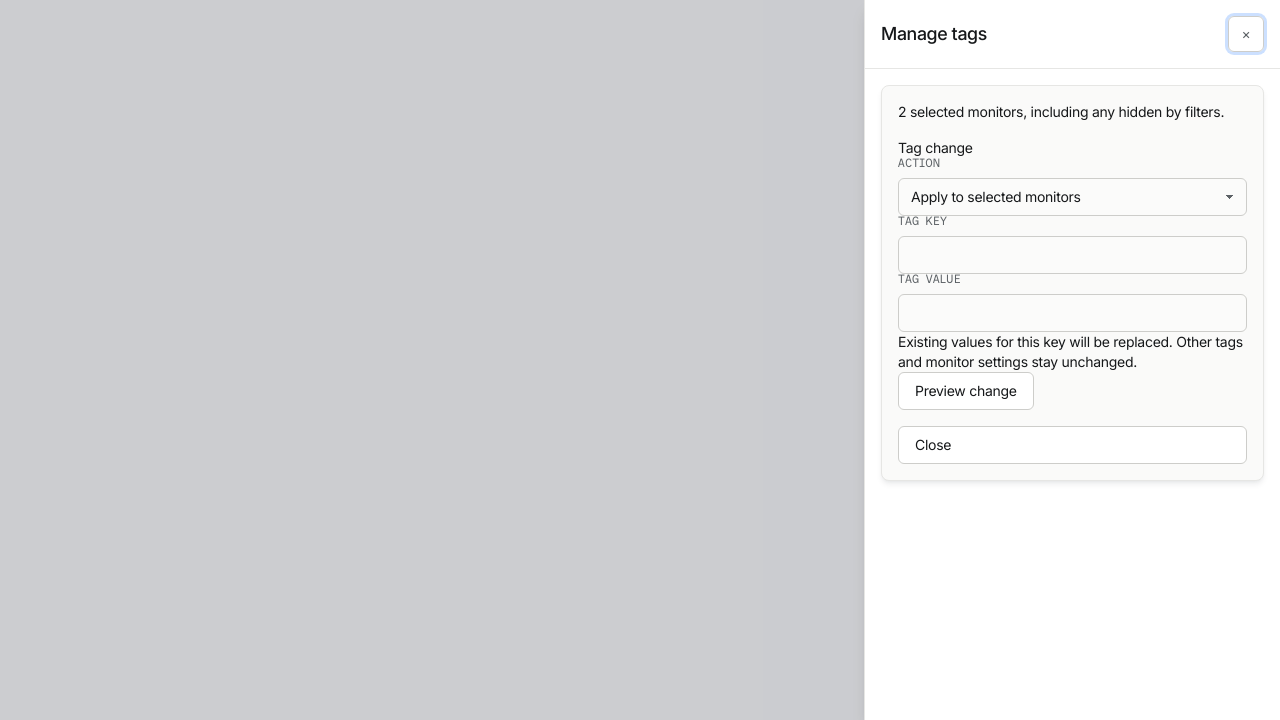
Test: invalidates a completed preview when value changes
Type "env" into the field labelled "Tag key".
click(1072, 255); type("env")  # box [898,236,1247,274]
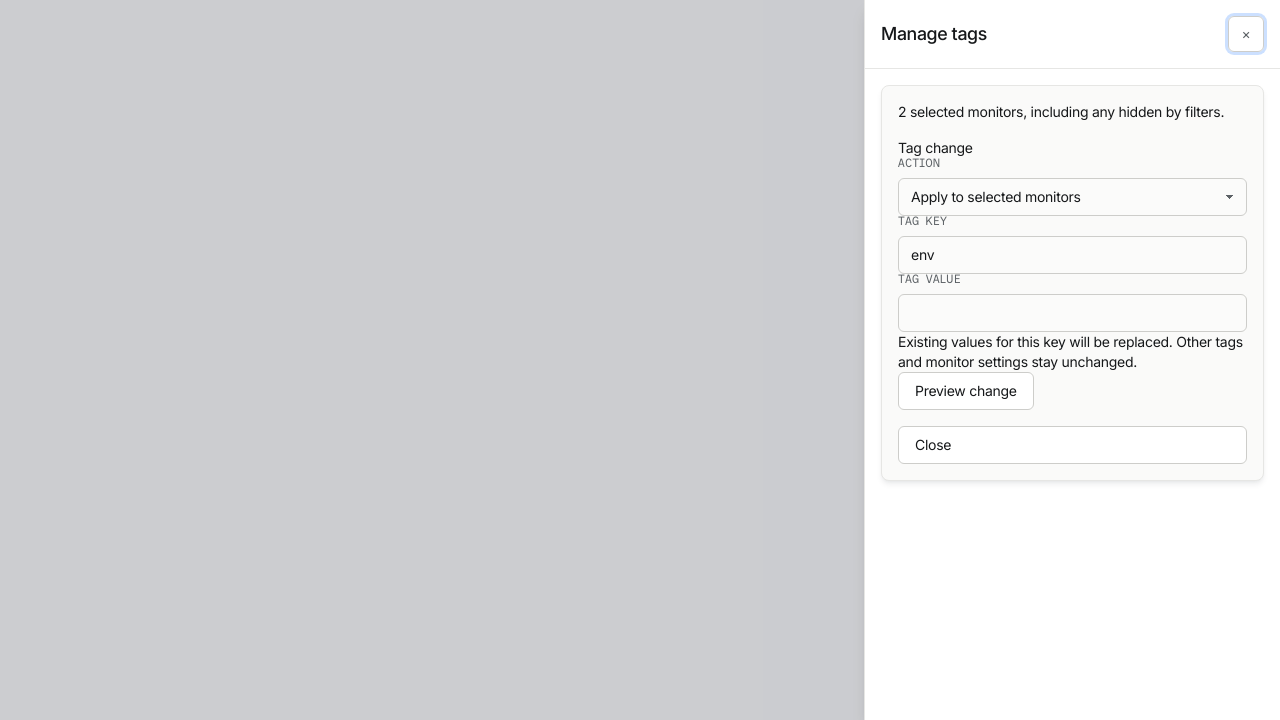
Type "prod" into the field labelled "Tag value".
click(1072, 313); type("prod")  # box [898,294,1247,332]
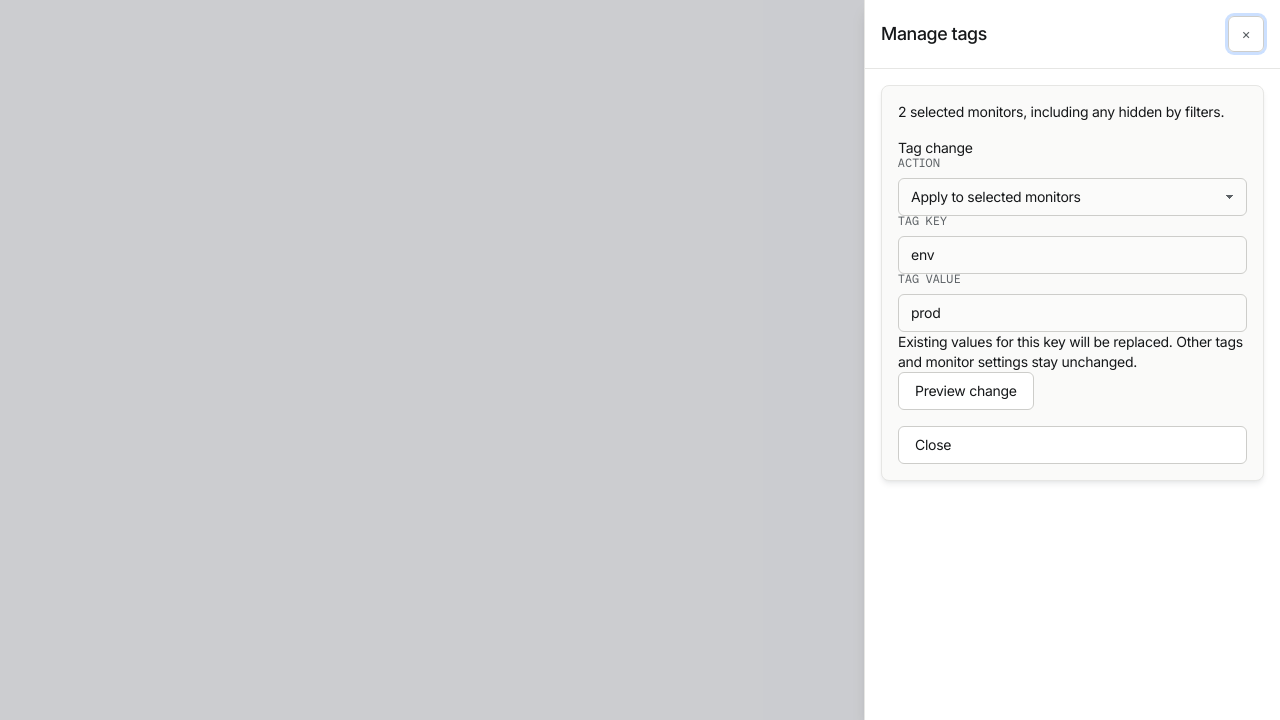
Click the button "Preview change".
click(966, 391)  # box [898,372,1034,410]
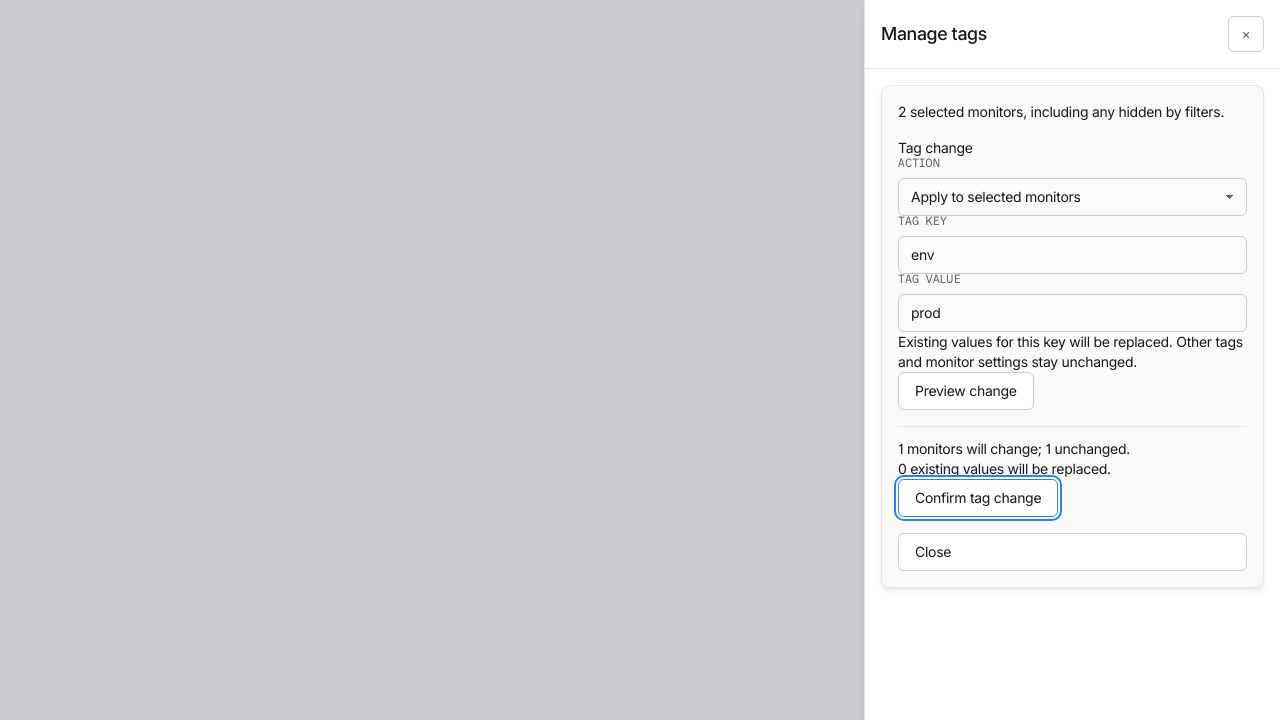
Expected: the button "Confirm tag change" is shown, [898,479,1058,517]
Replace the text in the field labelled "Tag value" with "changed" at (1072, 313), box [898,294,1247,332]
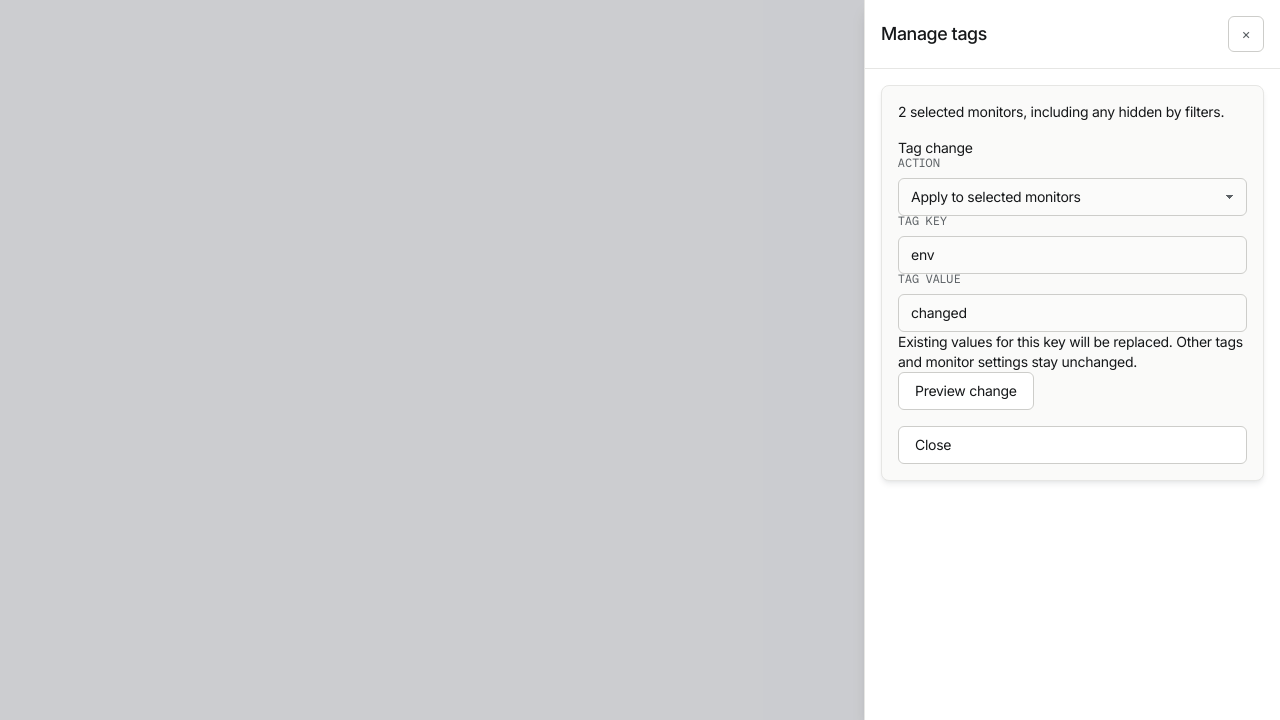
Expected: the button "Confirm tag change" is gone
